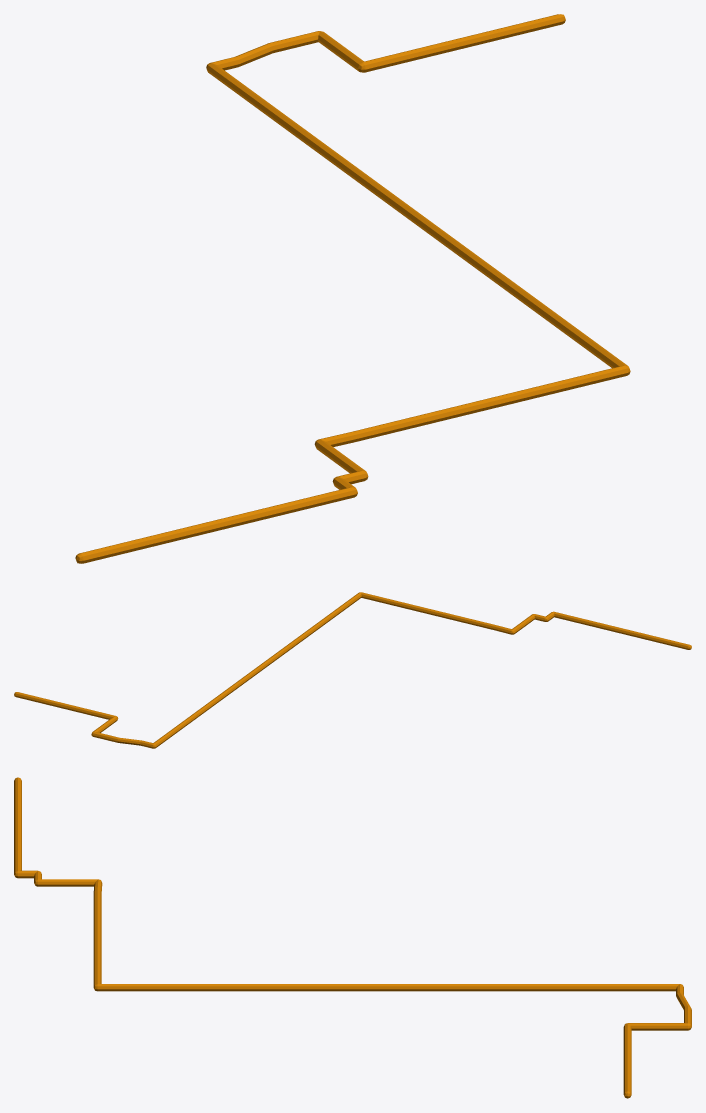
3 views of the same model, one above another, from view 1: azimuth 30°, elevation 25°; view 2: azimuth 150°, elevation 25°; view 3: azimuth 270°, elevation 25° (orthographic). The views are drawn at different scales.
Size of the model in its own units: 1867 by 20 by 1688.
